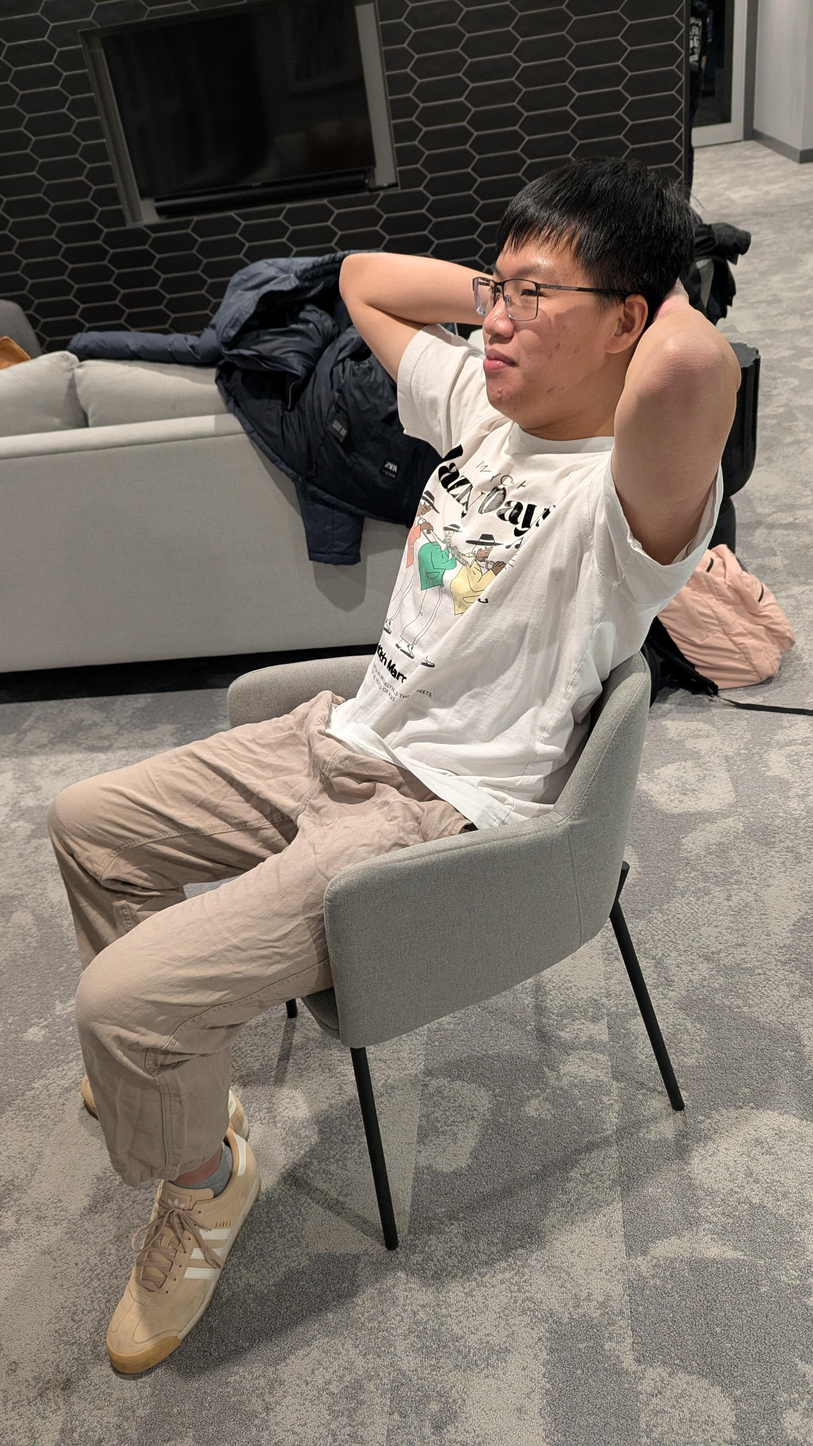BadPosture: (49, 158, 740, 1374)
